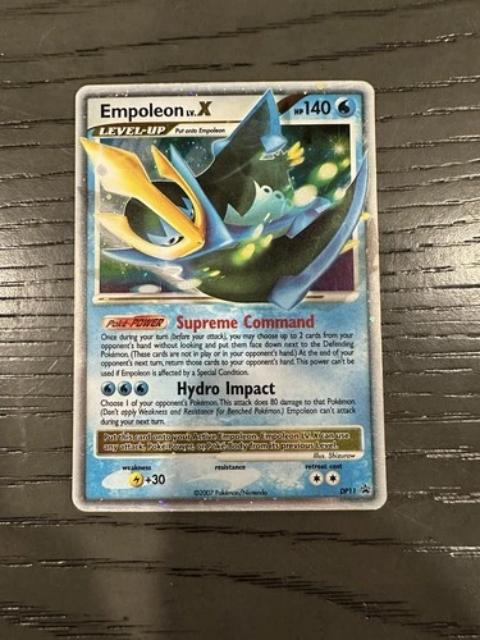Card: (63, 79, 389, 514)
Name: (93, 96, 215, 125)
